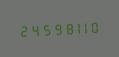eight: (57, 20, 66, 36)
five: (37, 21, 46, 37)
four: (27, 21, 36, 38)
nine: (47, 20, 56, 37)
one: (67, 19, 76, 36), (77, 19, 86, 35)
two: (17, 22, 26, 38)
zero: (87, 18, 96, 35)
